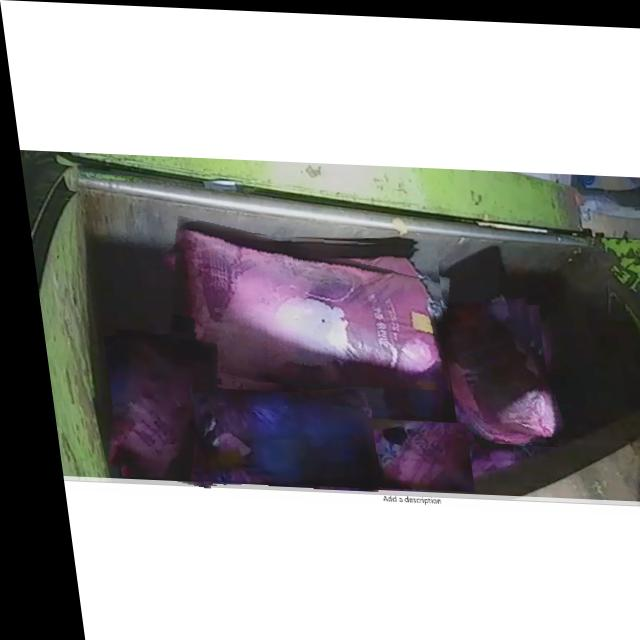other_trashbag: (170, 229, 435, 384), (185, 391, 366, 484), (441, 302, 547, 441), (107, 330, 208, 473), (364, 418, 457, 486)
